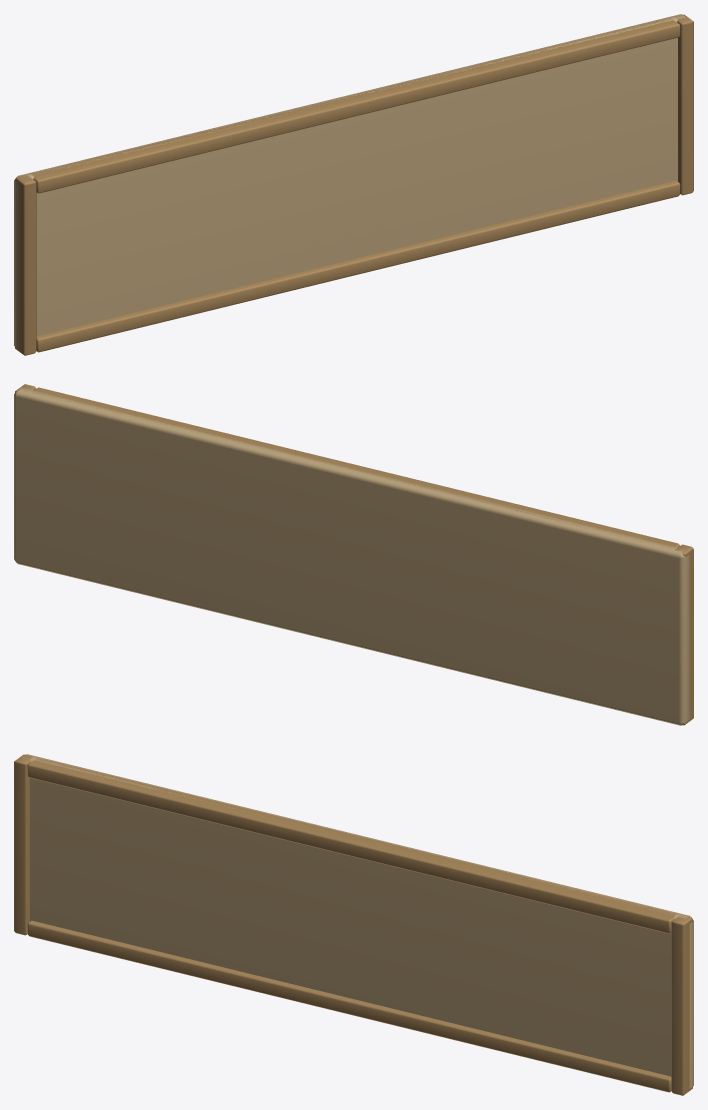
File: name_sign.glb
The picture shows the model from 3 angles, top to bottom: view 1: azimuth 30°, elevation 25°; view 2: azimuth 150°, elevation 25°; view 3: azimuth 330°, elevation 25°; orthographic projection.
Parts seen in each view (by area): view 1: Body; view 2: Body; view 3: Body.
Boxes of the visible parts, left/top/right/bottom form: Body: left=14, top=14, right=693, bottom=355; Body: left=14, top=384, right=693, bottom=725; Body: left=14, top=754, right=693, bottom=1095.
Size of the model in its own units: 1.38 by 0.34 by 0.044.
